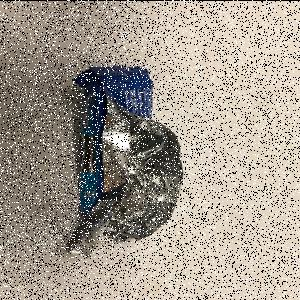Trash: (64, 65, 184, 261)
